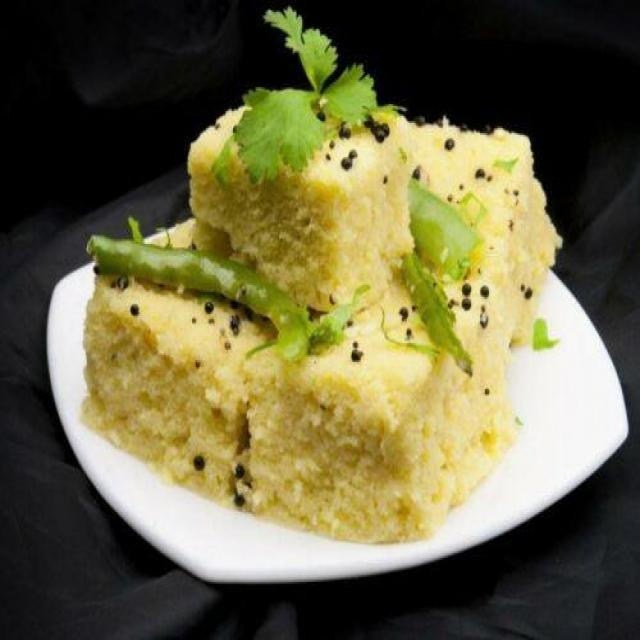dhokla: (95, 83, 568, 542)
